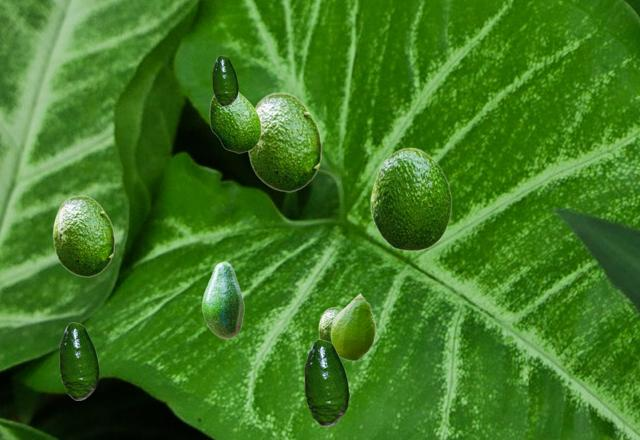avocado: (370, 147, 451, 250), (247, 92, 321, 191), (52, 195, 114, 276), (304, 339, 348, 425), (201, 261, 243, 338), (209, 91, 260, 152), (330, 292, 375, 360), (59, 322, 98, 399), (212, 55, 237, 105), (318, 307, 341, 340)
